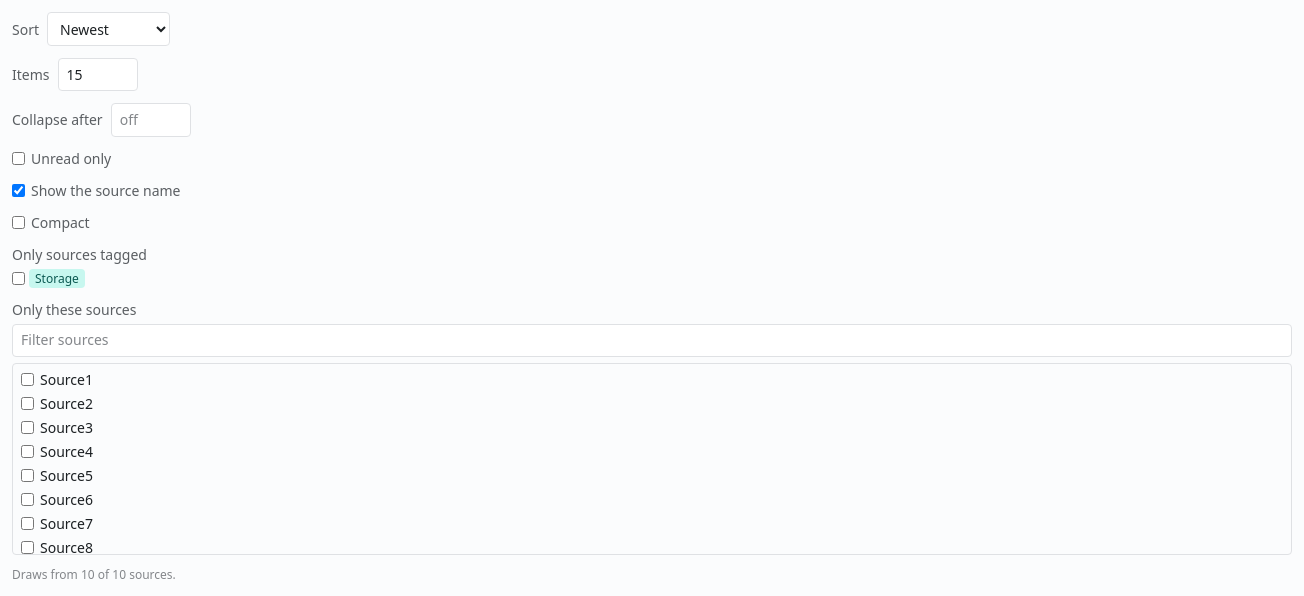
Test: searching the source list › narrows the list to what matches
Type "Source1" into the search field labelled "Filter sources" at (652, 340), box [12, 324, 1292, 357]
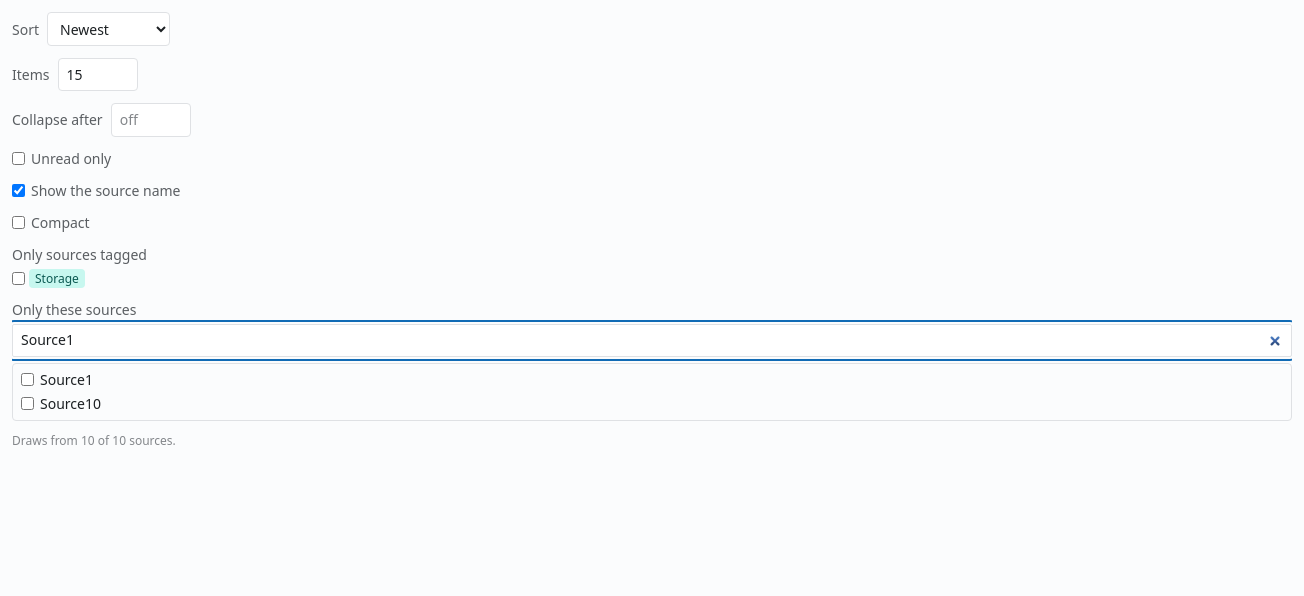
expect the checkbox labelled "Source1" is shown: met, box [21, 373, 34, 386]
expect the text labelled "Source2" is gone: met
